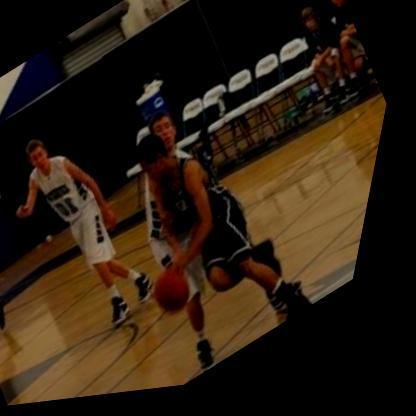basketball: (151, 264, 216, 330)
